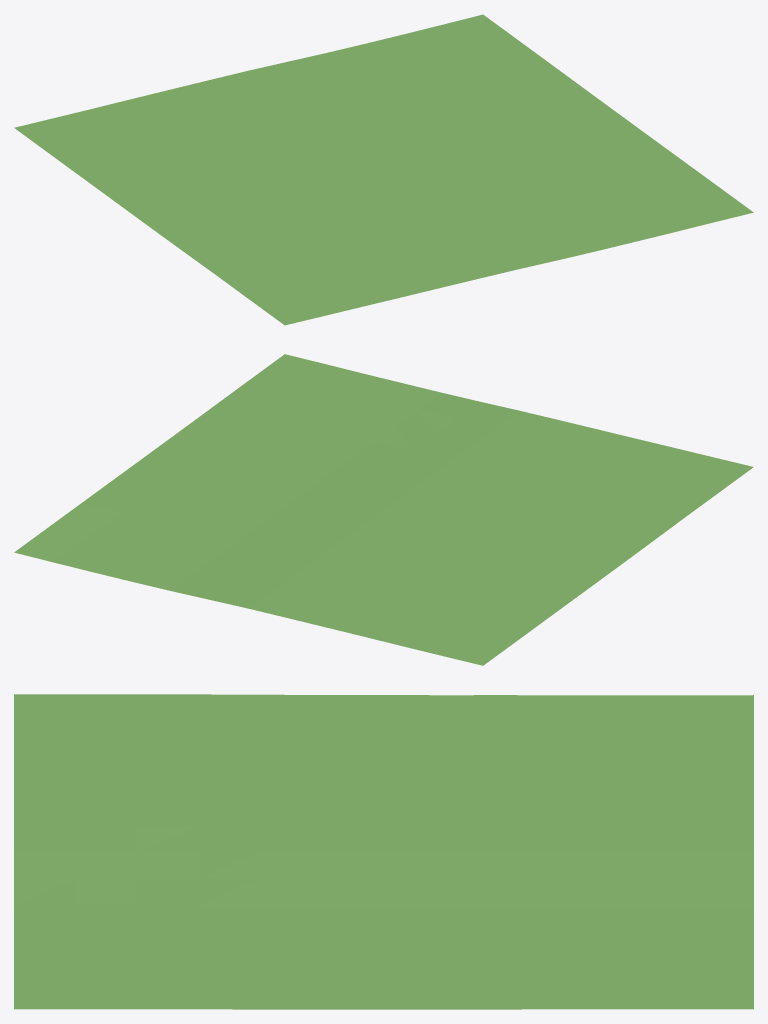
File: chunk_-2_-2.obj
The picture shows the model from 3 angles, top to bottom: view 1: azimuth 30°, elevation 25°; view 2: azimuth 150°, elevation 25°; view 3: azimuth 270°, elevation 25°; orthographic projection. The views are drawn at different scales.
Parts seen in each view (by area): view 1: chunk_-2_-2; view 2: chunk_-2_-2; view 3: chunk_-2_-2.
Part boxes in pixels (<box>): chunk_-2_-2: <box>14,14,753,325</box>; chunk_-2_-2: <box>14,354,753,665</box>; chunk_-2_-2: <box>14,694,753,1009</box>.
Size of the model in its own units: 16 by 0.0749 by 16.
